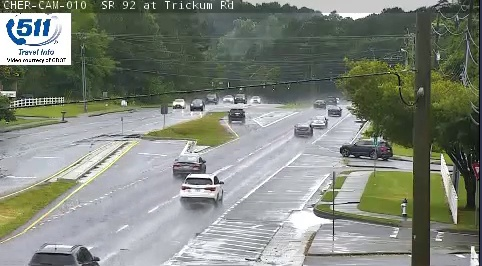car: (180, 173, 222, 199), (173, 154, 206, 175), (293, 123, 314, 137), (228, 108, 244, 122), (310, 116, 327, 129)
